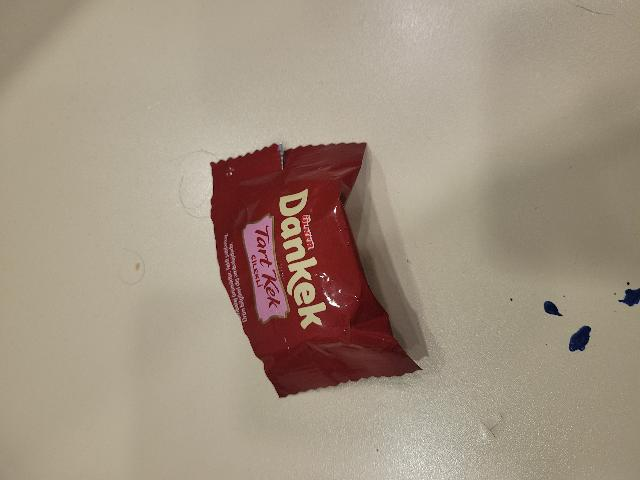Plastik: (204, 137, 434, 399)
